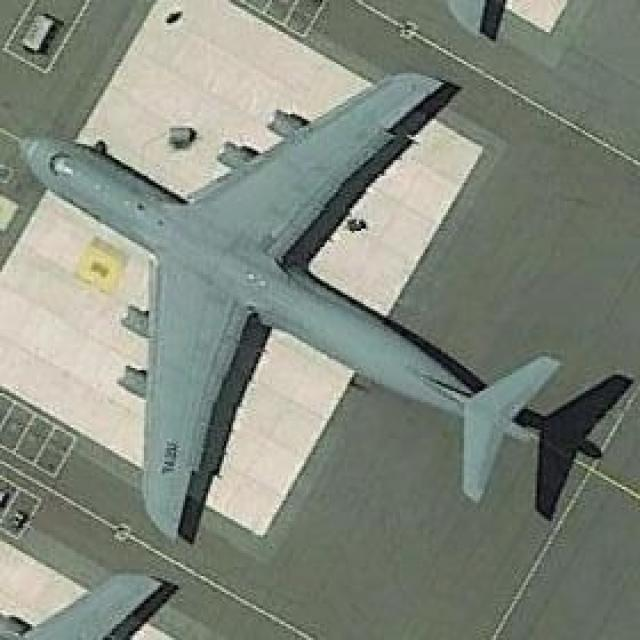C-5_TopDown: (16, 68, 630, 546)
